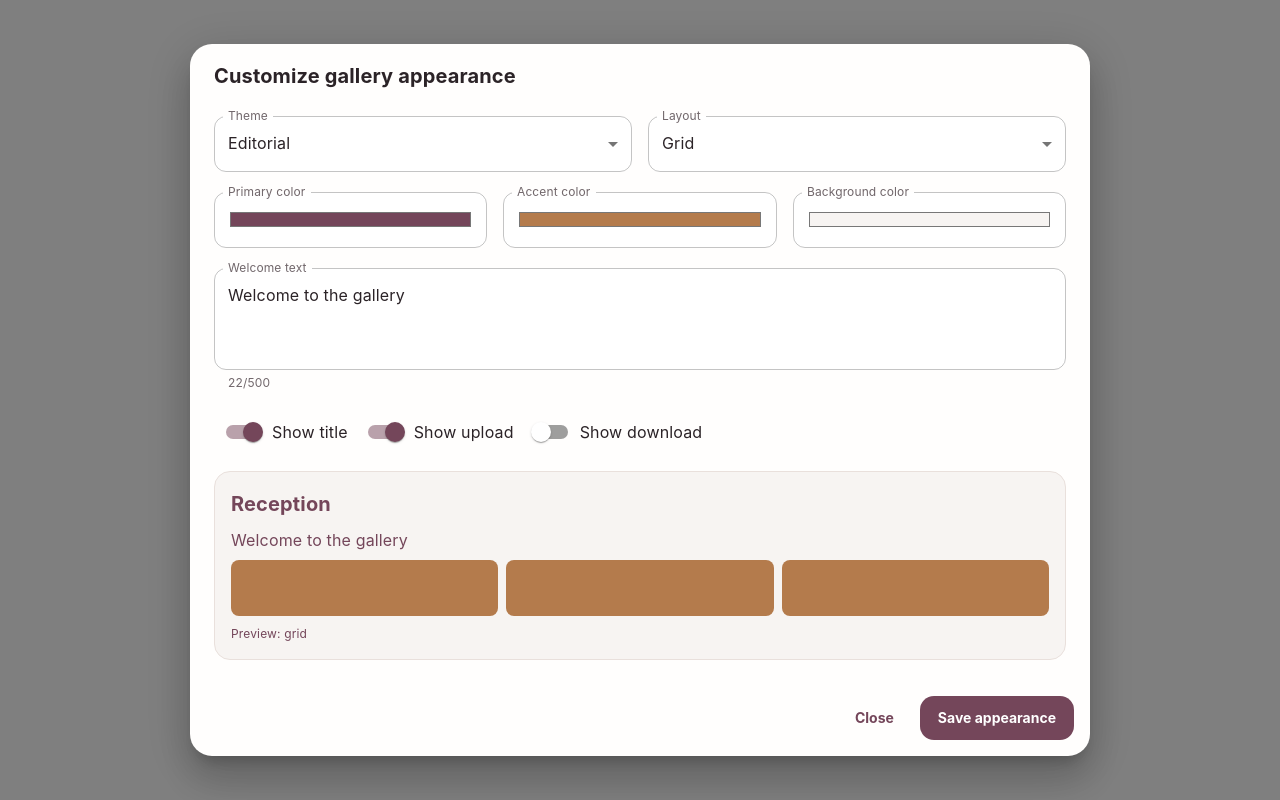
it: AppearancePanel › falls back to read-only and reloads when a manager cannot save
Expected: the text box labelled "Welcome text" is shown, [228,284,1052,353]
Click the button "Save appearance".
click(997, 718)  # box [920,696,1074,740]
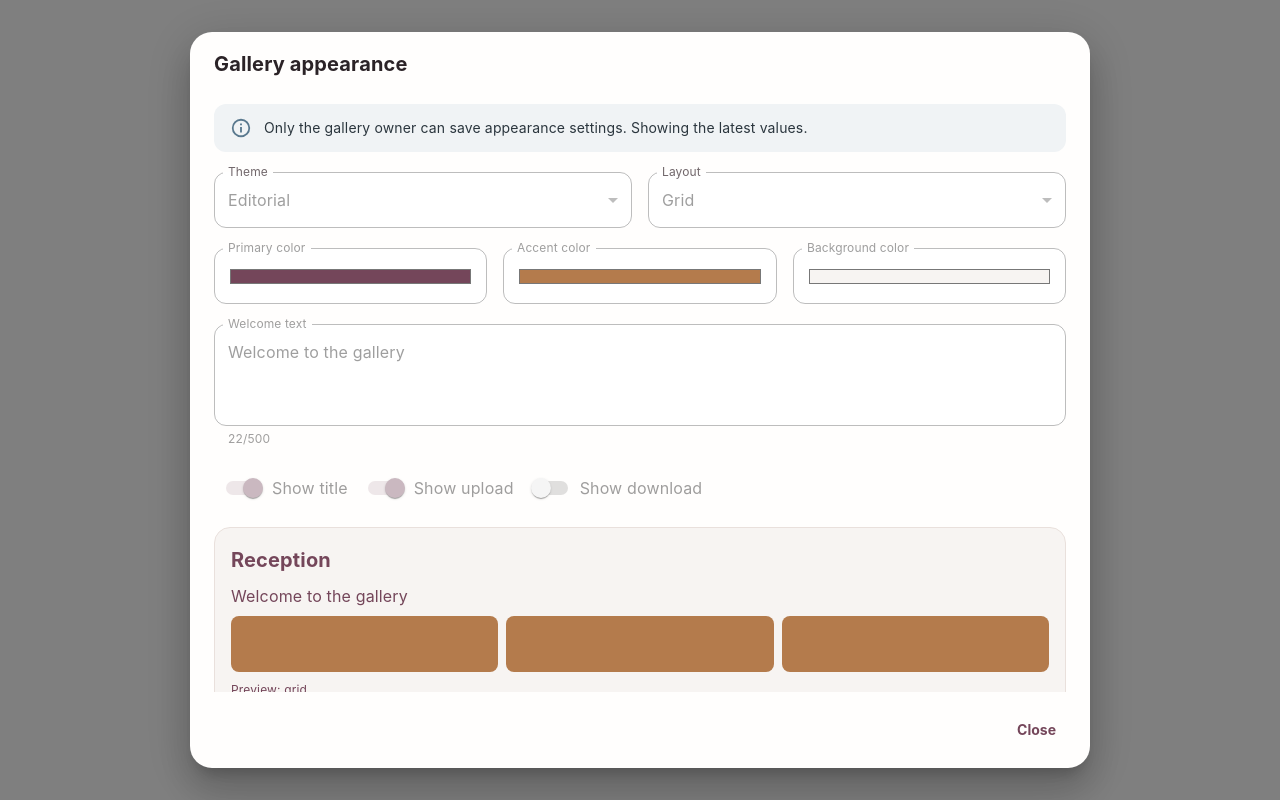
Result: the text "Only the gallery owner can save" is shown at [264,119,808,136]
